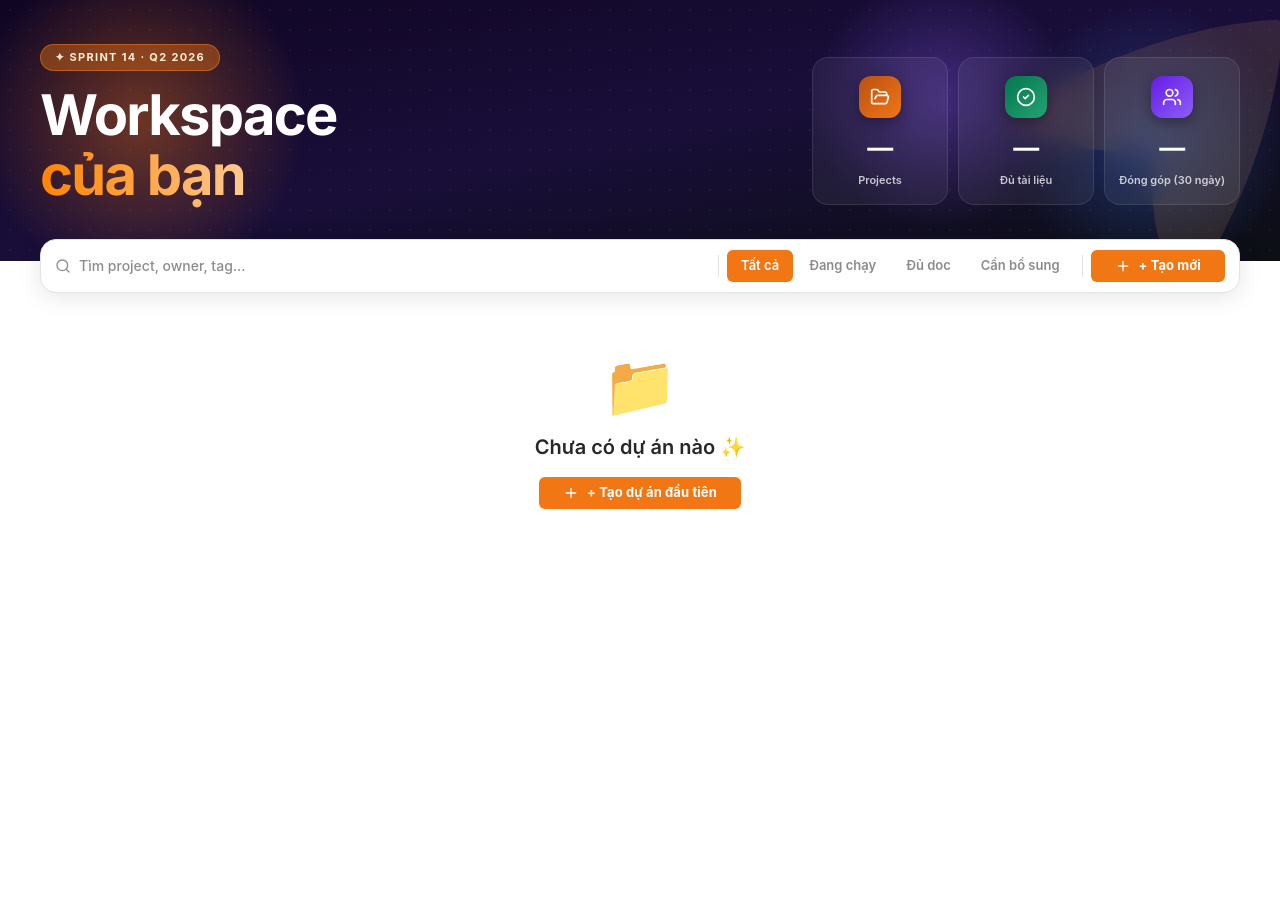
HomePage › admin empty-state CTA opens CreateProjectDialog
The width and height of the screenshot is (1280, 900).
Click the button "+ Tạo dự án đầu tiên" at [640, 492], box [539,476,741,508]
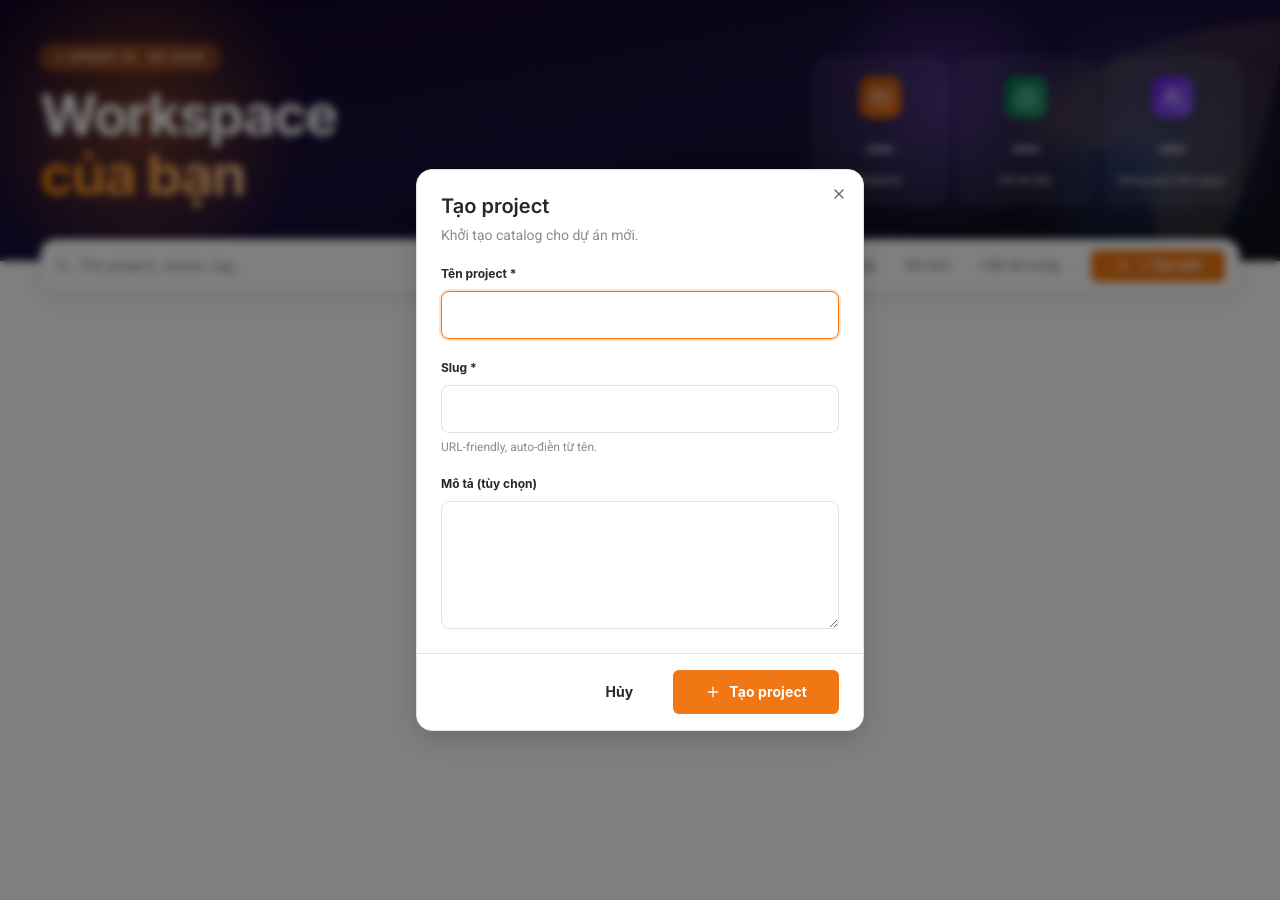
Result: the dialog "Tạo project" is shown at [416,169,864,731]
